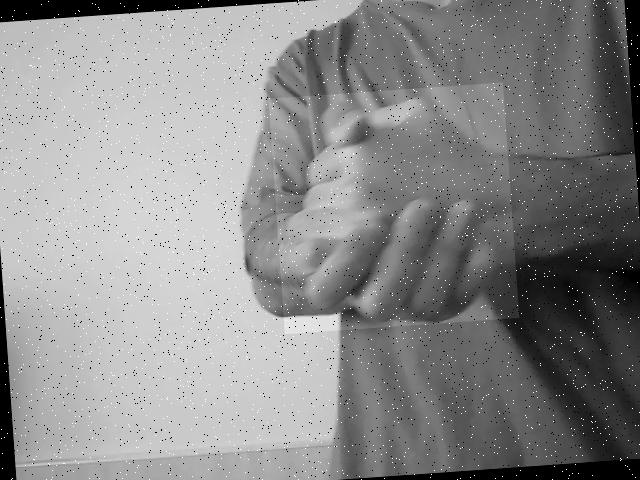friend: (278, 90, 508, 329)
